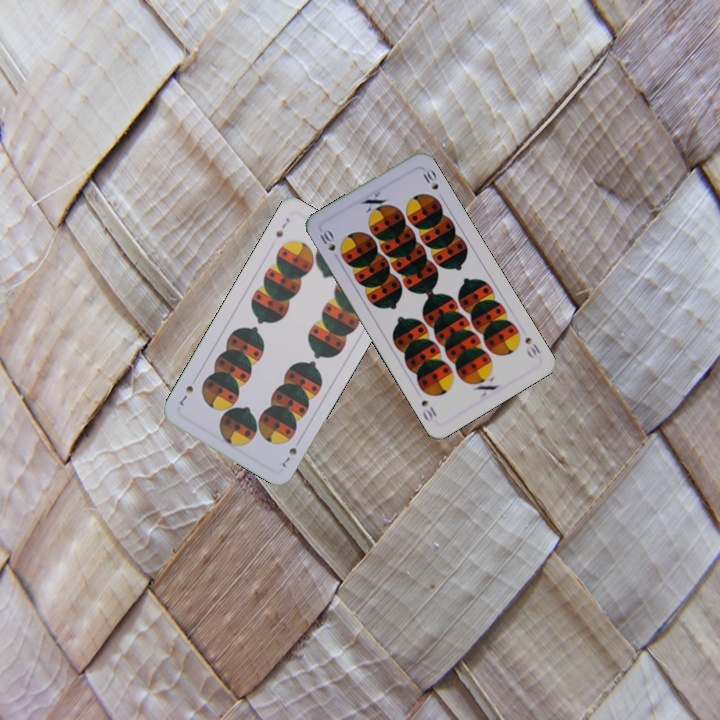S10: (316, 225, 338, 254), (521, 333, 543, 361)
S7: (276, 443, 300, 470), (271, 214, 292, 240)
